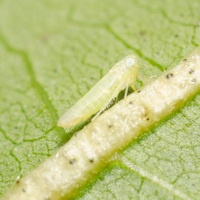insect: (76, 93, 199, 199), (57, 55, 137, 131)
